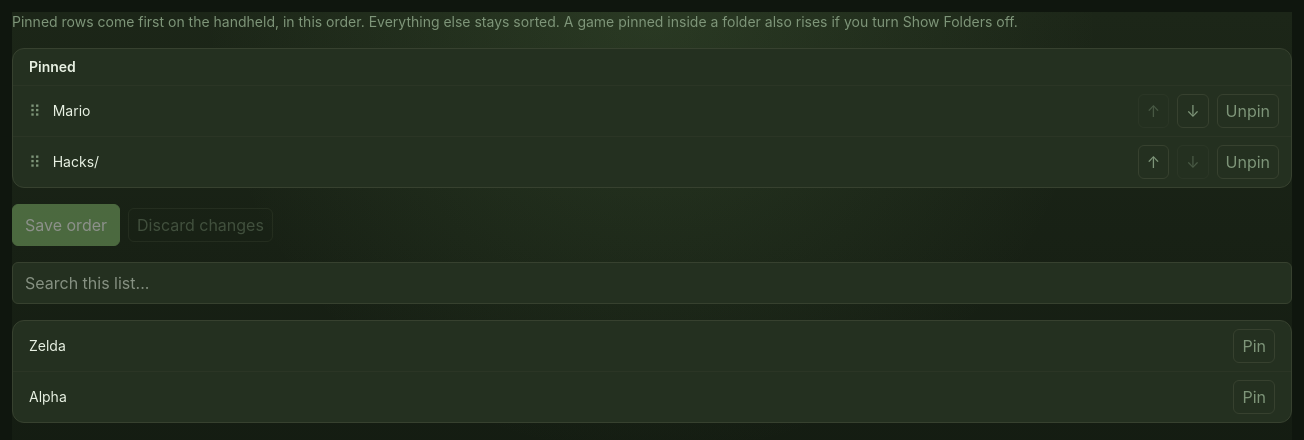
Test: LibraryOrderView › unpins, and discards
Expected: the element "Pinned" is shown, top-left (12, 48), bottom-right (1292, 188)
Click the button with aria-label "Unpin Mario" at (1248, 111), box top-left (1216, 94), bottom-right (1279, 128)
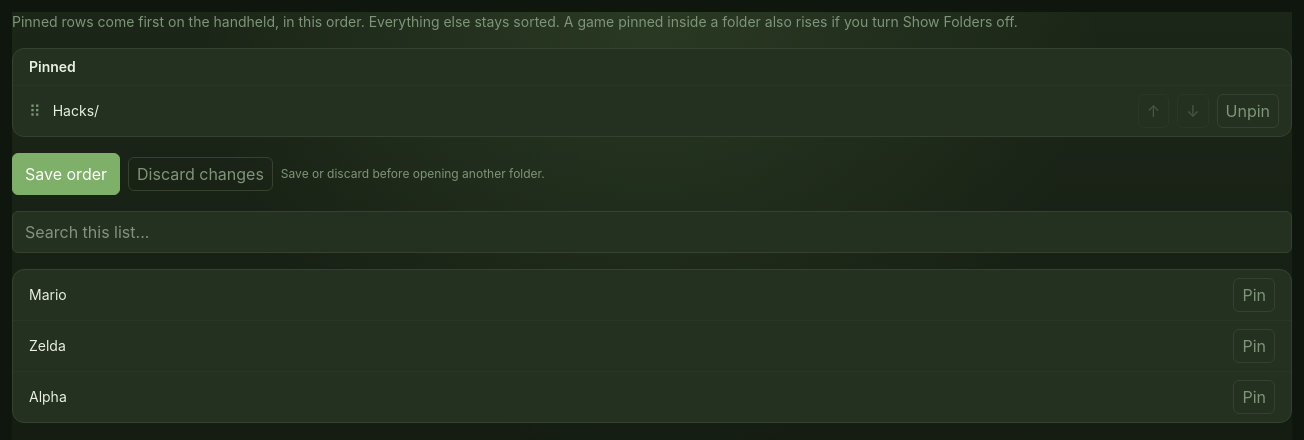
Expected: the element "Pinned" no longer shows "Mario"
Expected: the button "Save order" is enabled, top-left (12, 153), bottom-right (120, 195)
Click the button "Discard changes" at (200, 174), box top-left (128, 157), bottom-right (273, 191)
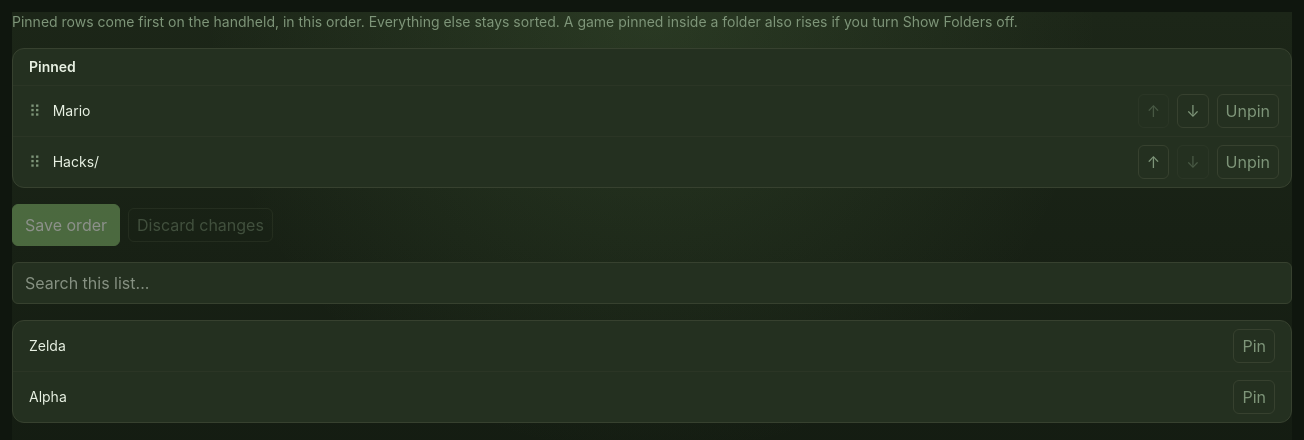
Expected: the element "Pinned" shows "Mario", top-left (53, 102), bottom-right (90, 119)
Expected: the button "Save order" is disabled, top-left (12, 204), bottom-right (120, 246)
